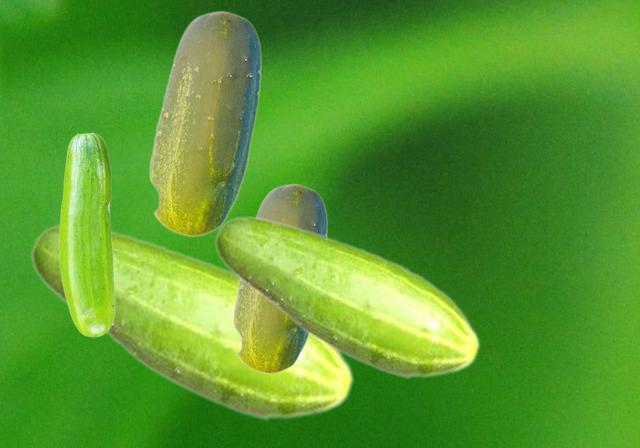cucumber: (30, 222, 354, 421), (214, 215, 480, 379), (148, 10, 260, 236), (232, 183, 326, 373), (59, 132, 114, 336)
